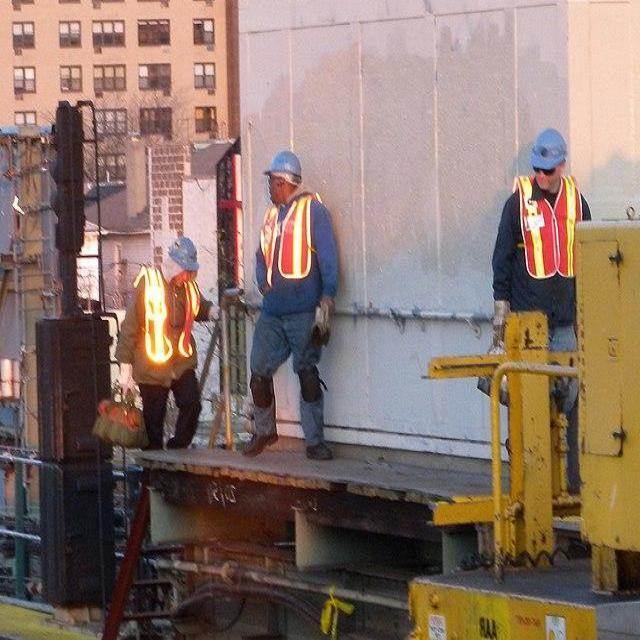reflective_jacket: (501, 171, 591, 292), (252, 192, 337, 302), (128, 264, 209, 374)
safety_helmet: (520, 120, 576, 177), (158, 229, 207, 279), (258, 143, 310, 188)
